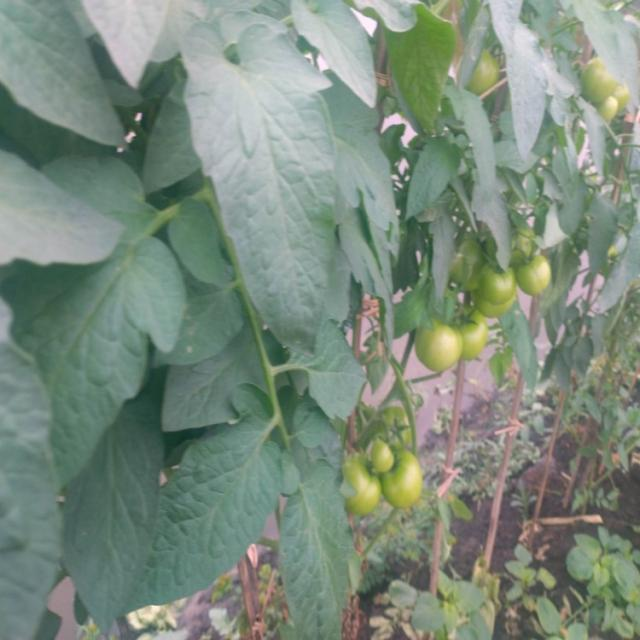tomato: (577, 58, 637, 125), (416, 321, 466, 376), (388, 452, 428, 516), (345, 462, 387, 518), (451, 315, 493, 363), (521, 251, 555, 303), (479, 266, 523, 303), (379, 404, 417, 446), (462, 54, 498, 95), (457, 231, 487, 280), (467, 290, 520, 317), (503, 215, 531, 263), (371, 443, 400, 472), (598, 97, 618, 119), (611, 85, 636, 100)
